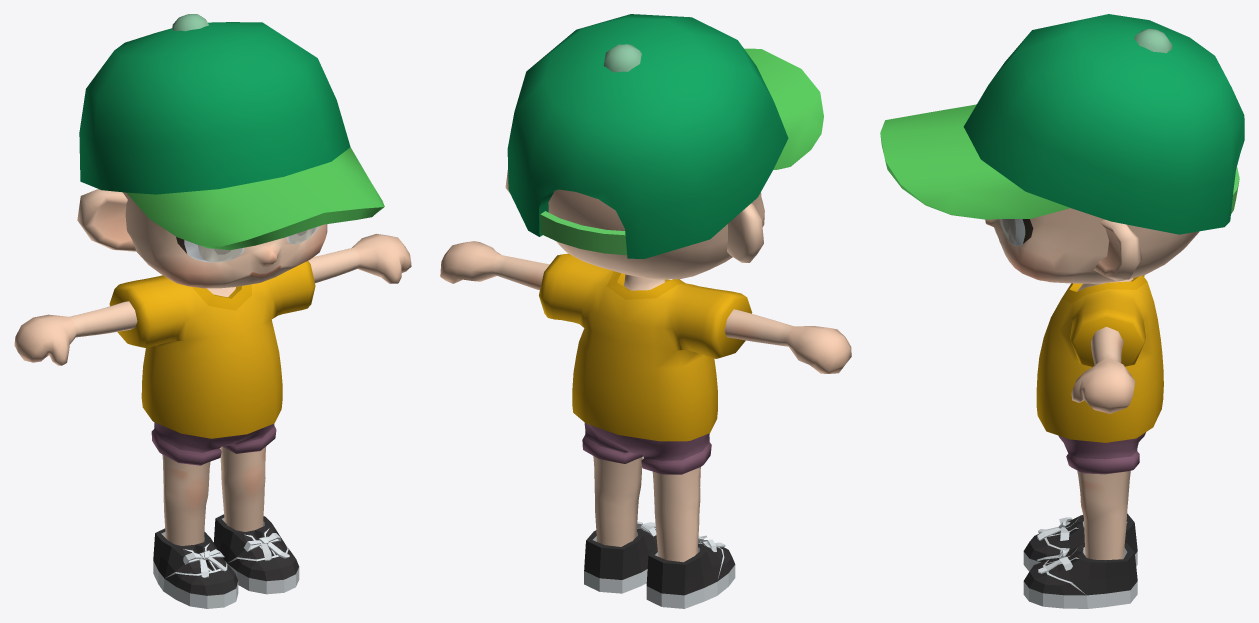
The model's file is Buyer 1.fbx.
The picture shows the model from 3 angles, left to right: view 1: azimuth 30°, elevation 25°; view 2: azimuth 150°, elevation 25°; view 3: azimuth 270°, elevation 25°; orthographic projection. The views are drawn at different scales.
Parts seen in each view (by area): view 1: Headgear_1.003, Top_4.002, Face_A1.004, Shoes_1.002, Body_ArmA_1.012, Body_LegB_2.006, Bottom_4.002; view 2: Headgear_1.003, Top_4.002, Shoes_1.002, Body_LegB_2.006, Face_A1.004, Body_ArmA_1.012, Bottom_4.002; view 3: Headgear_1.003, Top_4.002, Face_A1.004, Shoes_1.002, Body_LegB_2.006, Body_ArmA_1.012, Bottom_4.002.
Part boxes in pixels (box(x1,y1,x2,y2)): Headgear_1.003: box(79, 14, 384, 250); Top_4.002: box(109, 261, 315, 438); Face_A1.004: box(77, 189, 327, 288); Shoes_1.002: box(153, 514, 299, 608); Body_ArmA_1.012: box(14, 233, 411, 365); Body_LegB_2.006: box(162, 446, 266, 545); Bottom_4.002: box(151, 422, 276, 465); Headgear_1.003: box(507, 14, 823, 258); Top_4.002: box(539, 253, 752, 441); Shoes_1.002: box(584, 521, 735, 608); Body_LegB_2.006: box(593, 456, 700, 562); Face_A1.004: box(505, 170, 764, 279); Body_ArmA_1.012: box(440, 241, 851, 373); Bottom_4.002: box(582, 423, 711, 474); Headgear_1.003: box(880, 14, 1244, 234); Top_4.002: box(1036, 275, 1163, 442); Face_A1.004: box(985, 208, 1199, 283); Shoes_1.002: box(1023, 513, 1137, 608); Body_LegB_2.006: box(1077, 470, 1130, 560); Body_ArmA_1.012: box(1071, 326, 1134, 413); Bottom_4.002: box(1058, 432, 1145, 474).
Bounding box in the file's own units: 131 × 174 × 104.
